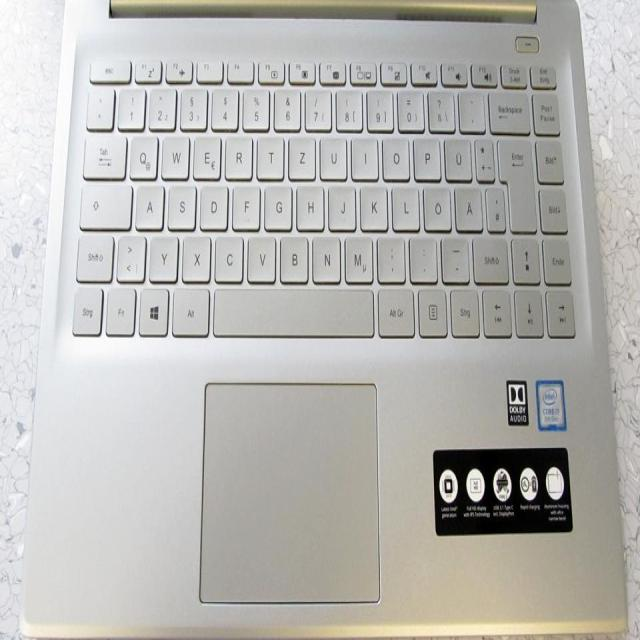0: (395, 86, 423, 130)
1: (115, 82, 144, 127)
2: (145, 82, 175, 127)
3: (177, 82, 206, 128)
4: (209, 83, 237, 127)
5: (240, 83, 269, 128)
6: (272, 84, 300, 128)
7: (302, 84, 330, 128)
8: (333, 84, 361, 128)
9: (364, 86, 392, 130)
a: (133, 179, 162, 228)
accent: (456, 86, 484, 130)
ae: (452, 181, 481, 229)
alt-left: (169, 282, 208, 334)
altgr-right: (376, 283, 414, 334)
b: (277, 230, 307, 280)
c: (212, 230, 242, 281)
caret: (85, 82, 113, 127)
comma: (374, 231, 404, 280)
d: (197, 179, 226, 228)
del: (486, 85, 529, 131)
e: (190, 129, 219, 177)
enter: (495, 132, 534, 229)
f: (230, 179, 259, 228)
g: (262, 180, 291, 228)
h: (293, 179, 323, 229)
hash: (483, 183, 504, 229)
i: (349, 132, 377, 177)
j: (326, 180, 354, 228)
k: (357, 180, 387, 228)
keyboard: (67, 44, 581, 350)
l: (389, 180, 418, 228)
less: (113, 229, 144, 280)
m: (341, 230, 372, 281)
minus: (439, 231, 468, 280)
n: (309, 230, 340, 281)
o: (380, 132, 408, 178)
oe: (421, 181, 450, 229)
p: (412, 133, 440, 177)
plus: (472, 133, 493, 179)
point: (407, 231, 436, 279)
q: (126, 129, 157, 177)
r: (222, 131, 251, 177)
s: (165, 180, 194, 228)
shift-left: (74, 228, 112, 280)
shift-lock: (77, 177, 131, 227)
shift-right: (470, 230, 507, 282)
space: (212, 282, 372, 337)
ss: (426, 85, 454, 128)
strg-left: (70, 281, 102, 333)
strg-right: (447, 285, 478, 335)
t: (255, 131, 283, 177)
tab: (81, 128, 125, 177)
u: (317, 130, 346, 178)
ue: (442, 133, 470, 178)
v: (245, 230, 275, 280)
w: (159, 129, 188, 177)
x: (180, 230, 209, 280)
y: (147, 230, 177, 280)
z: (286, 131, 315, 177)
